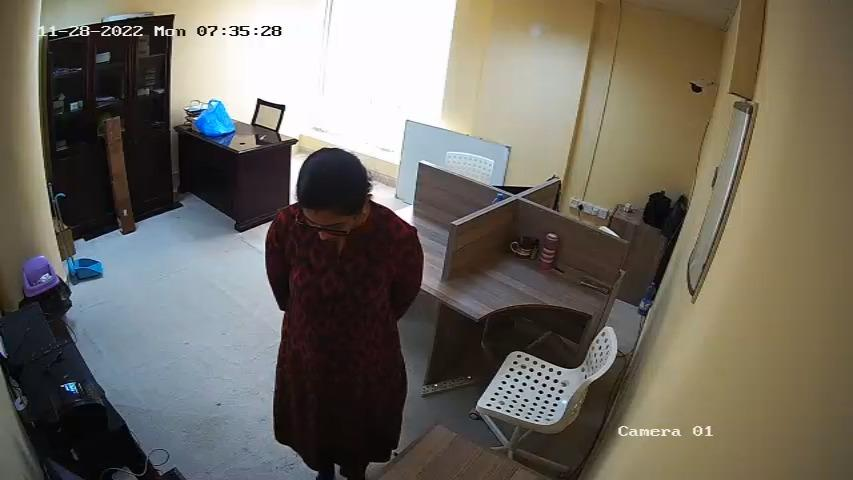no_apron: (280, 247, 396, 446)
